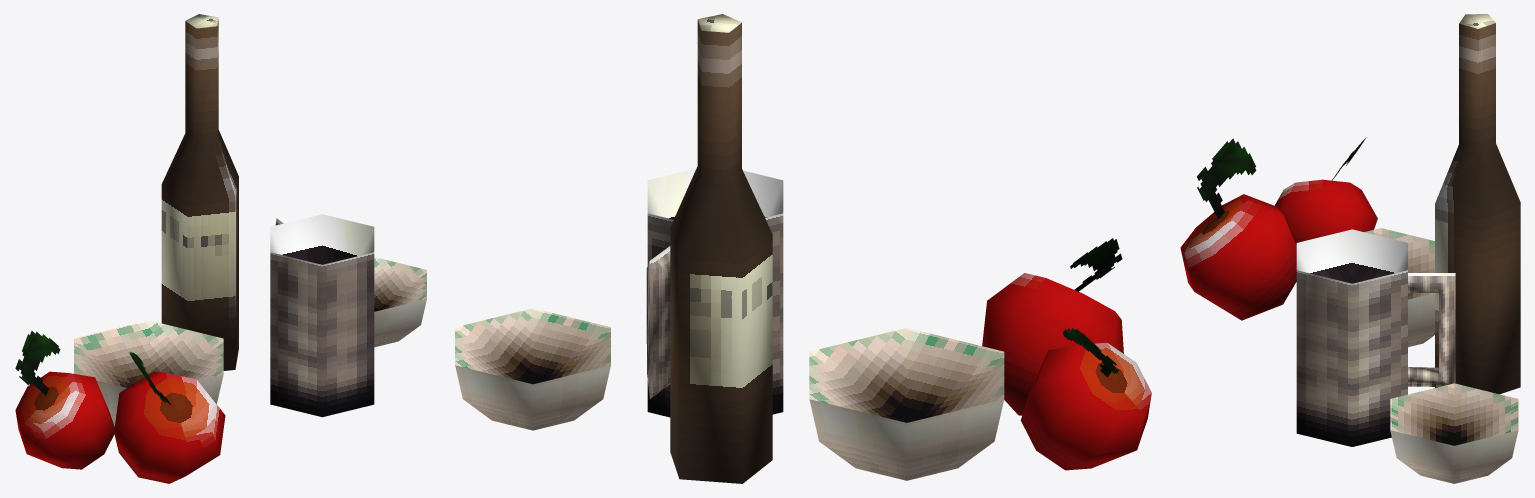
The model's file is Beer02.glb.
The picture shows the model from 3 angles, left to right: view 1: azimuth 30°, elevation 25°; view 2: azimuth 150°, elevation 25°; view 3: azimuth 270°, elevation 25°; orthographic projection. The views are drawn at different scales.
Visible parts, largest first — view 1: Beer02; view 2: Beer02; view 3: Beer02.
Boxes of the visible parts, x1,y1,x2,y2 form: Beer02: [15, 14, 426, 483]; Beer02: [455, 14, 1151, 483]; Beer02: [1180, 14, 1520, 483].
Bounding box in the file's own units: 0.8824 × 0.6227 × 0.5188.
5 materials, 5 textured.
